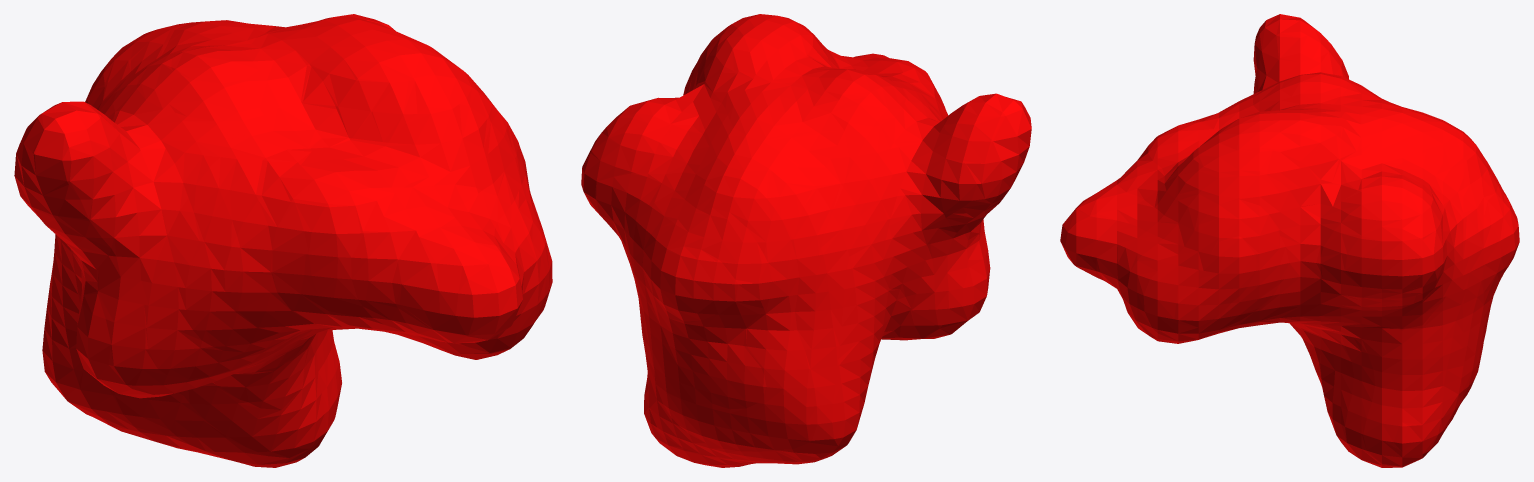
The model's file is yegP_coarse.dae.
3 renders of one model, left to right at view 1: azimuth 30°, elevation 25°; view 2: azimuth 150°, elevation 25°; view 3: azimuth 270°, elevation 25°, orthographic. The views are drawn at different scales.
Parts seen in each view (by area): view 1: yegP; view 2: yegP; view 3: yegP.
Part boxes in pixels (left/top/right/bottom): yegP: left=14, top=14, right=552, bottom=467; yegP: left=581, top=14, right=1031, bottom=467; yegP: left=1060, top=14, right=1519, bottom=467.
Bounding box in the file's own units: 39.96 × 39.29 × 46.51.
